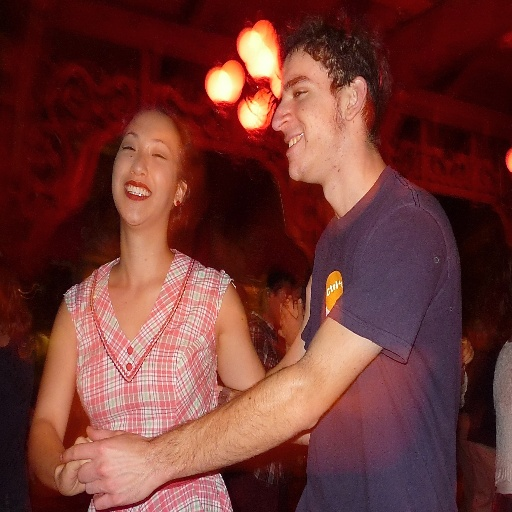hand: (49, 416, 175, 500), (53, 435, 91, 496), (277, 295, 305, 347), (279, 296, 304, 345), (461, 335, 474, 367), (214, 385, 221, 393)
